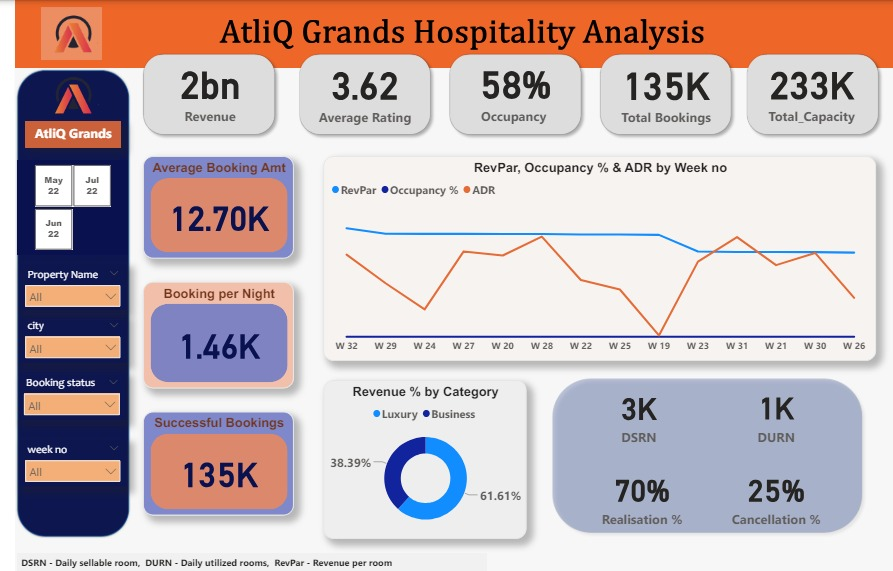

The dashboard page shown, as its layout file describes it:
{"tool":"powerbi","page":{"name":"Additional Analysis","canvas":[1280,835],"ordinal":2},"visuals":[{"type":"donutChart","title":"Revenue % by Category","fields":{"Category":["dim_hotels.category"],"Y":["key_measure.revenue"]},"box":[447.7,553.8,295.4,230.8],"z":0},{"type":"lineChart","fields":{"Y":["key_measure.RevPar","key_measure.Occupancy %"],"Y2":["key_measure.ADR"],"Category":["dim_date.week no"]},"box":[1398.2,340.4,361.4,87.7],"z":1000},{"type":"shape","box":[0,100,169.2,684.6],"z":2000},{"type":"textbox","box":[0,0,1300,100],"z":3000},{"type":"image","title":"atliq","box":[38.5,101.5,87.7,75.4],"z":4000},{"type":"slicer","fields":{"Values":["dim_hotels.property_name"]},"box":[4.6,384.6,158.5,67.7],"z":5000},{"type":"slicer","fields":{"Values":["dim_hotels.city"]},"box":[4.6,460,158.5,69.2],"z":6000},{"type":"slicer","fields":{"Values":["fact_bookings.booking_status"]},"box":[3.1,543.1,158.5,69.2],"z":7000},{"type":"slicer","fields":{"Values":["dim_date.week no"]},"box":[4.6,640,158.5,69.2],"z":8000},{"type":"shape","box":[178.5,70.8,207.7,133.8],"z":9000},{"type":"card","fields":{"Values":["key_measure.revenue"]},"box":[207.5,76.1,152.2,109],"z":10000},{"type":"shape","box":[404.6,70.8,207.7,133.8],"z":11000},{"type":"card","fields":{"Values":["key_measure.Average Rating"]},"box":[424.6,66.2,167.7,130.8],"z":12000},{"type":"shape","box":[623.1,70.8,207.7,133.8],"z":13000},{"type":"card","fields":{"Values":["key_measure.Occupancy %"]},"box":[650.8,75.4,152.3,109.2],"z":14000},{"type":"shape","box":[841.5,70.8,207.7,133.8],"z":15000},{"type":"card","fields":{"Values":["key_measure.Total_bookings"]},"box":[866.2,72.3,160,120],"z":16000},{"type":"shape","box":[1055.4,70.8,207.7,133.8],"z":17000},{"type":"card","fields":{"Values":["key_measure.Total_Capacity"]},"box":[1075.4,76.9,164.6,107.7],"z":18000},{"type":"textbox","box":[15.4,176.9,138.5,38.5],"z":19000},{"type":"slicer","fields":{"Values":["dim_date.mmm yy"]},"box":[3.1,233.8,160,136.9],"z":20000},{"type":"cardVisual","title":"Average Booking Amt","fields":{"Data":["key_measure.ADR"]},"box":[186.2,227.7,218.5,149.2],"z":21000},{"type":"cardVisual","title":"Booking per Night","fields":{"Data":["key_measure.DBRN"]},"box":[186.2,410.8,218.5,155.4],"z":22000},{"type":"lineChart","title":"RevPar, Occupancy % & ADR by Week no","fields":{"Y":["key_measure.RevPar","key_measure.Occupancy %"],"Y2":["key_measure.ADR"],"Category":["dim_date.week no"]},"box":[447.7,227.7,803.1,298.5],"z":23000},{"type":"cardVisual","title":"Successful Bookings","fields":{"Data":["key_measure.Total_Succesfull_Bookings"]},"box":[186.2,600,218.5,150.8],"z":24000},{"type":"shape","box":[772.3,543.1,467.7,241.5],"z":25000},{"type":"card","fields":{"Values":["key_measure.DSRN"]},"box":[830.8,543.1,150.8,121.5],"z":26000},{"type":"card","fields":{"Values":["key_measure.DURN"]},"box":[1026.2,543.1,160,120],"z":27000},{"type":"card","fields":{"Values":["key_measure.Realisation %"]},"box":[830.8,663.1,160,120],"z":28000},{"type":"card","fields":{"Values":["key_measure.Cancellation %"]},"box":[1026.2,663.1,160,120],"z":29000},{"type":"image","title":"atliq","box":[38.5,12.3,87.7,75.4],"z":30000},{"type":"textbox","box":[4.3,805.7,681.4,30],"z":30001}]}

Visuals, with their boxes in screenshot pixels (x1, y1, x2, y2), scaled from the page's 1280x835 canvas onto the 893x571 screenshot:
"Revenue % by Category" donutChart: {"x1": 312, "y1": 379, "x2": 518, "y2": 537}
shape: {"x1": 0, "y1": 68, "x2": 118, "y2": 537}
textbox: {"x1": 0, "y1": 0, "x2": 892, "y2": 68}
"atliq" image: {"x1": 27, "y1": 69, "x2": 88, "y2": 121}
slicer - dim_hotels.property_name: {"x1": 3, "y1": 263, "x2": 114, "y2": 309}
slicer - dim_hotels.city: {"x1": 3, "y1": 315, "x2": 114, "y2": 362}
slicer - fact_bookings.booking_status: {"x1": 2, "y1": 371, "x2": 113, "y2": 419}
slicer - dim_date.week no: {"x1": 3, "y1": 438, "x2": 114, "y2": 485}
shape: {"x1": 125, "y1": 48, "x2": 269, "y2": 140}
card - key_measure.revenue: {"x1": 145, "y1": 52, "x2": 251, "y2": 127}
shape: {"x1": 282, "y1": 48, "x2": 427, "y2": 140}
card - key_measure.Average Rating: {"x1": 296, "y1": 45, "x2": 413, "y2": 135}
shape: {"x1": 435, "y1": 48, "x2": 580, "y2": 140}
card - key_measure.Occupancy %: {"x1": 454, "y1": 52, "x2": 560, "y2": 126}
shape: {"x1": 587, "y1": 48, "x2": 732, "y2": 140}
card - key_measure.Total_bookings: {"x1": 604, "y1": 49, "x2": 716, "y2": 132}
shape: {"x1": 736, "y1": 48, "x2": 881, "y2": 140}
card - key_measure.Total_Capacity: {"x1": 750, "y1": 53, "x2": 865, "y2": 126}
textbox: {"x1": 11, "y1": 121, "x2": 107, "y2": 147}
slicer - dim_date.mmm yy: {"x1": 2, "y1": 160, "x2": 114, "y2": 253}
"Average Booking Amt" cardVisual: {"x1": 130, "y1": 156, "x2": 282, "y2": 258}
"Booking per Night" cardVisual: {"x1": 130, "y1": 281, "x2": 282, "y2": 387}
"RevPar, Occupancy % & ADR by Week no" lineChart: {"x1": 312, "y1": 156, "x2": 873, "y2": 360}
"Successful Bookings" cardVisual: {"x1": 130, "y1": 410, "x2": 282, "y2": 513}
shape: {"x1": 539, "y1": 371, "x2": 865, "y2": 537}
card - key_measure.DSRN: {"x1": 580, "y1": 371, "x2": 685, "y2": 454}
card - key_measure.DURN: {"x1": 716, "y1": 371, "x2": 828, "y2": 453}
card - key_measure.Realisation %: {"x1": 580, "y1": 453, "x2": 691, "y2": 536}
card - key_measure.Cancellation %: {"x1": 716, "y1": 453, "x2": 828, "y2": 536}
"atliq" image: {"x1": 27, "y1": 8, "x2": 88, "y2": 60}
textbox: {"x1": 3, "y1": 551, "x2": 478, "y2": 570}
